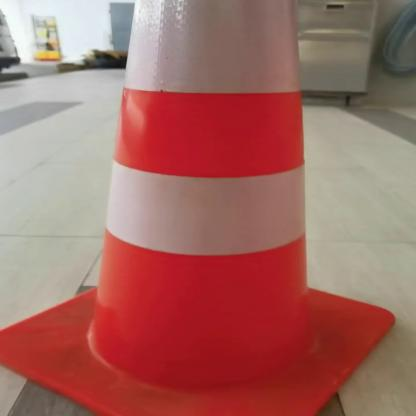cone: (5, 0, 395, 416)
